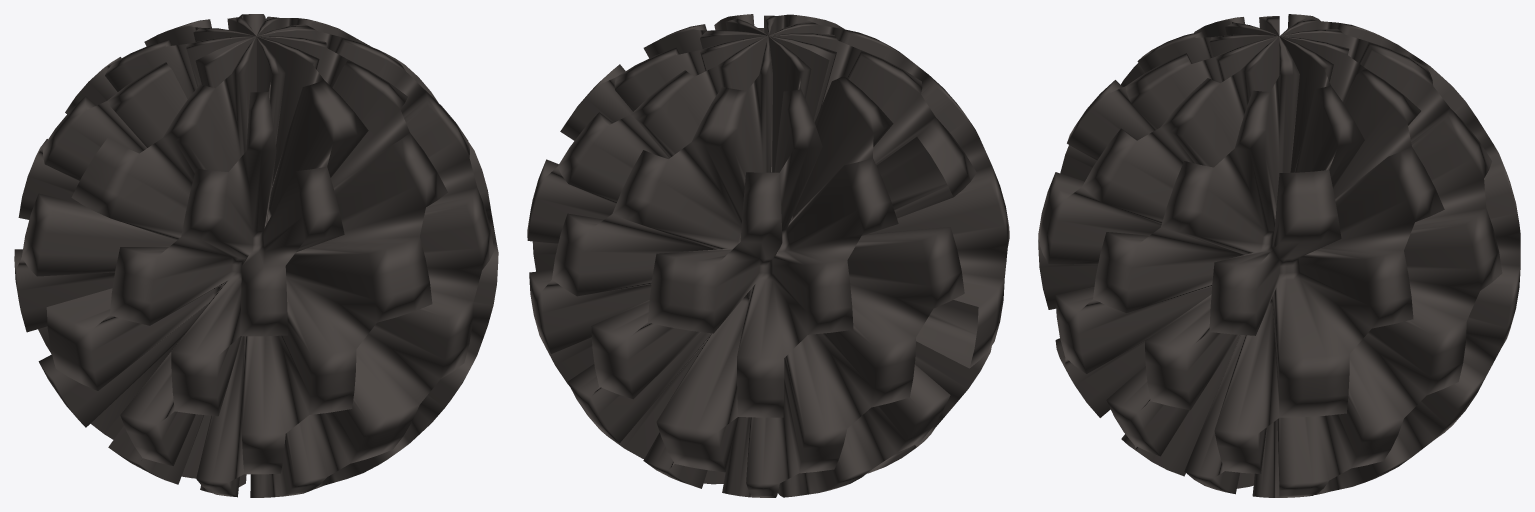
File: 3d.ball.glb
The picture shows the model from 3 angles, left to right: view 1: azimuth 30°, elevation 25°; view 2: azimuth 150°, elevation 25°; view 3: azimuth 270°, elevation 25°; orthographic projection.
Visible parts, largest first — view 1: null_set_empty_transform_animated_0; view 2: null_set_empty_transform_animated_0; view 3: null_set_empty_transform_animated_0.
Part boxes in pixels (<box>): null_set_empty_transform_animated_0: <box>14,14,498,497</box>; null_set_empty_transform_animated_0: <box>527,14,1009,497</box>; null_set_empty_transform_animated_0: <box>1038,14,1520,497</box>.
Size of the model in its own units: 5.55 by 5.54 by 5.52.
Materials: 1 (1 with a texture image).
